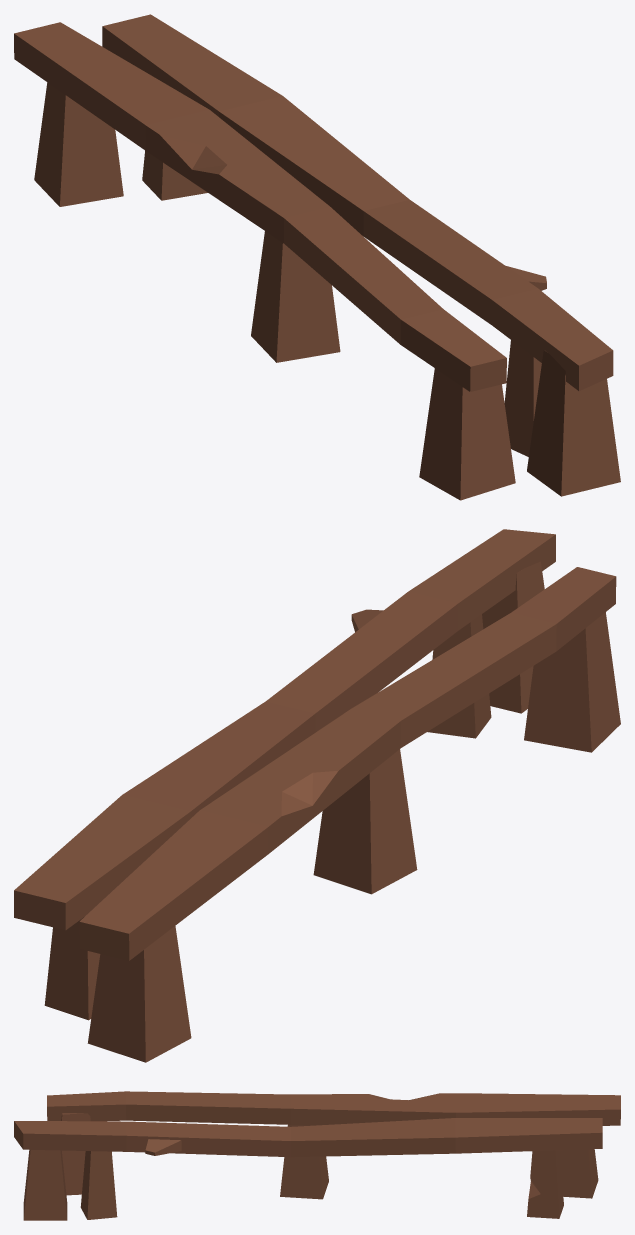
File: LPWarPack_Bench.fbx
3 renders of one model, top to bottom at view 1: azimuth 30°, elevation 25°; view 2: azimuth 150°, elevation 25°; view 3: azimuth 270°, elevation 25°, orthographic. The views are drawn at different scales.
Visible parts, largest first — view 1: Bench; view 2: Bench; view 3: Bench.
Boxes of the visible parts, left/top/right/bottom form: Bench: left=14, top=14, right=620, bottom=500; Bench: left=14, top=529, right=620, bottom=1062; Bench: left=14, top=1091, right=620, bottom=1220.
Bounding box in the file's own units: 60.93 × 46.18 × 290.
